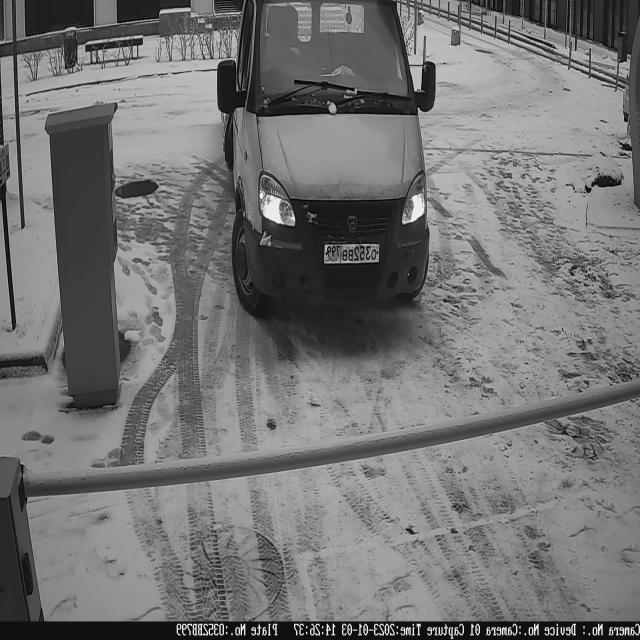car-plate-numbers: (323, 239, 382, 272)
